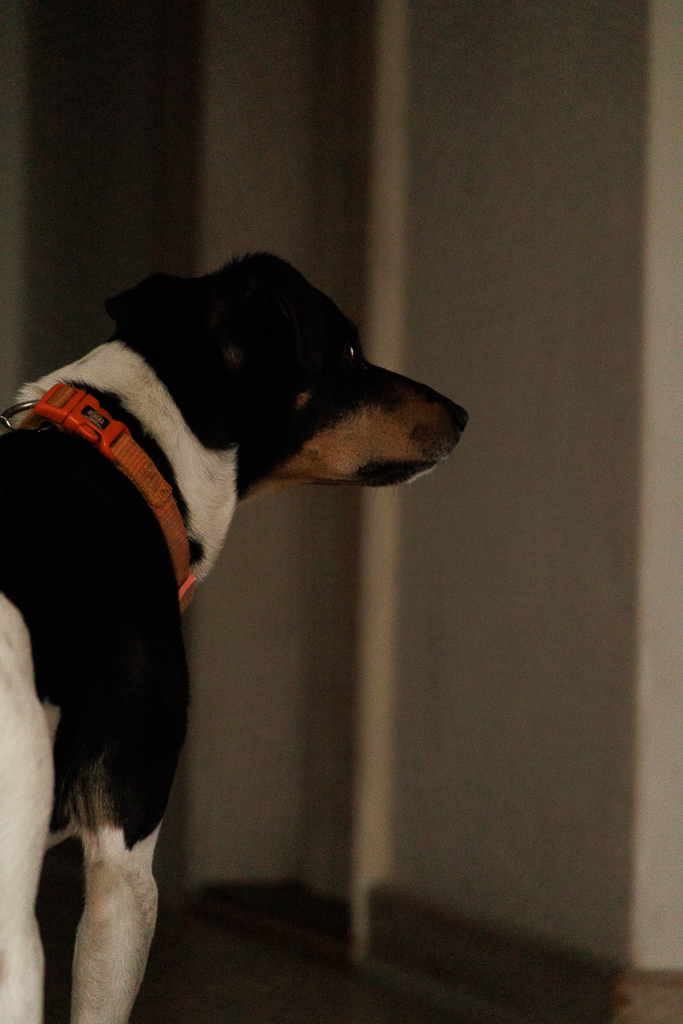Dog: (0, 236, 487, 1024)
